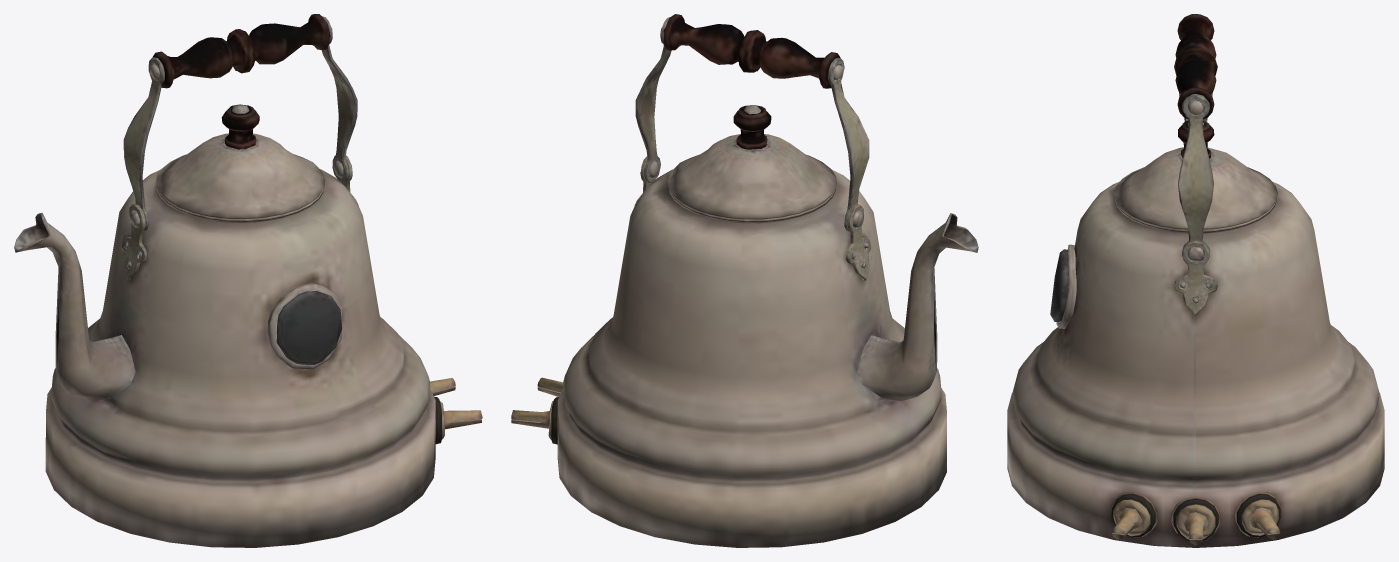
The model's file is kettle-vintage.lite.531b0f85.glb.
The picture shows the model from 3 angles, left to right: view 1: azimuth 30°, elevation 25°; view 2: azimuth 150°, elevation 25°; view 3: azimuth 270°, elevation 25°; orthographic projection. The views are drawn at different scales.
Visible parts, largest first — view 1: model; view 2: model; view 3: model.
Boxes of the visible parts, x1,y1,x2,y2 form: model: (14,14,482,547); model: (511,14,978,547); model: (1007,14,1384,547).
Bounding box in the file's own units: 0.3208 × 0.3044 × 0.2478.
2 materials, 2 textured.
